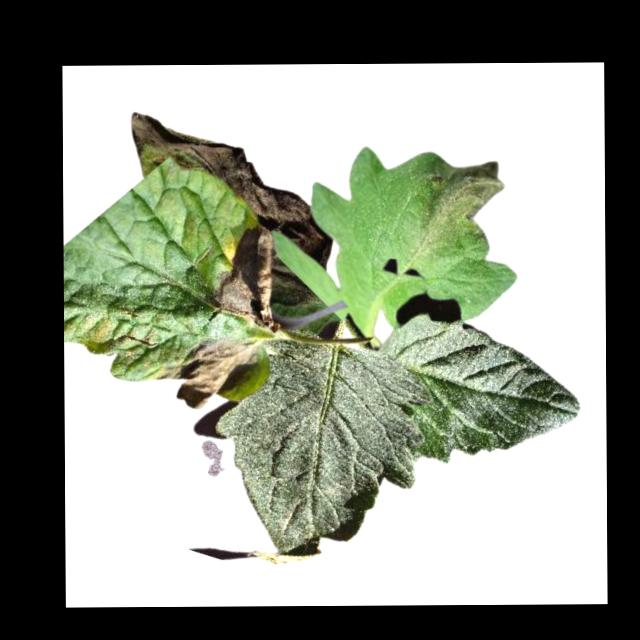Late_blight: (133, 108, 332, 272), (208, 214, 281, 334), (413, 159, 507, 243), (157, 334, 260, 410), (268, 247, 321, 307)
healthy: (216, 326, 431, 553), (381, 308, 581, 465)
